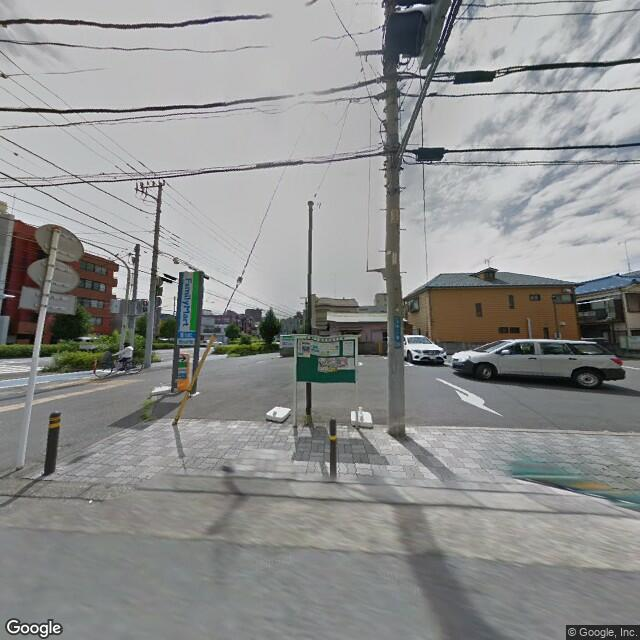family_mart: (177, 269, 202, 336)
